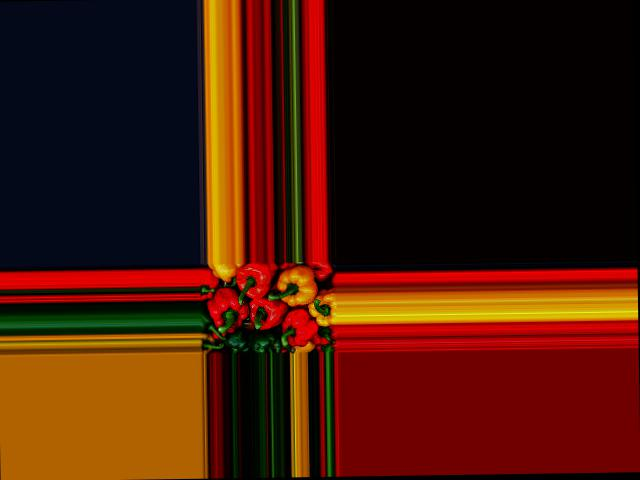bell_pepper: (212, 262, 236, 281)
